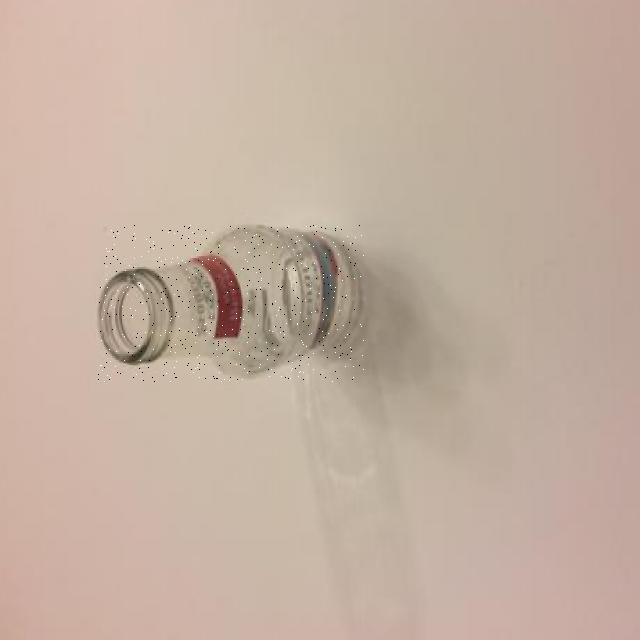glass: (99, 225, 364, 382)
